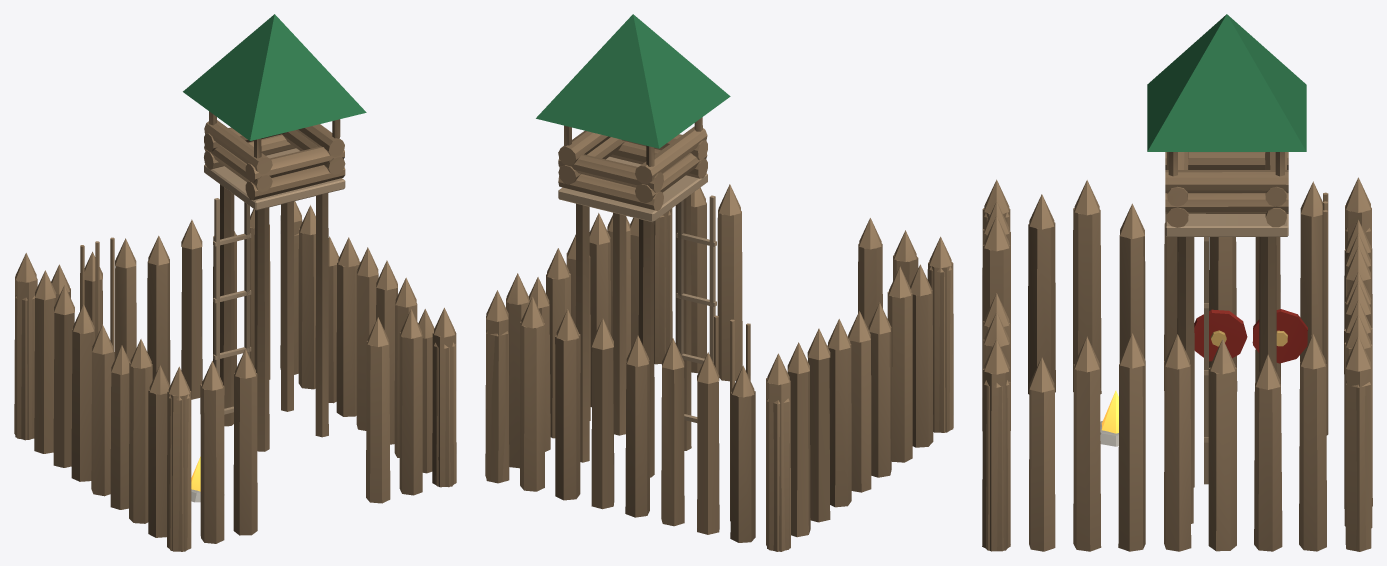
File: bld_zastava_e2.glb
3 views of the same model, side by side, from view 1: azimuth 30°, elevation 25°; view 2: azimuth 150°, elevation 25°; view 3: azimuth 270°, elevation 25° (orthographic). The views are drawn at different scales.
Parts seen in each view (by area): view 1: zastava; view 2: zastava; view 3: zastava.
Part boxes in pixels (x1=…): zastava: x1=14, y1=14, x2=456, y2=551; zastava: x1=485, y1=14, x2=953, y2=551; zastava: x1=982, y1=14, x2=1372, y2=551.
Bounding box in the file's own units: 0.9513 × 1.32 × 0.9504.
